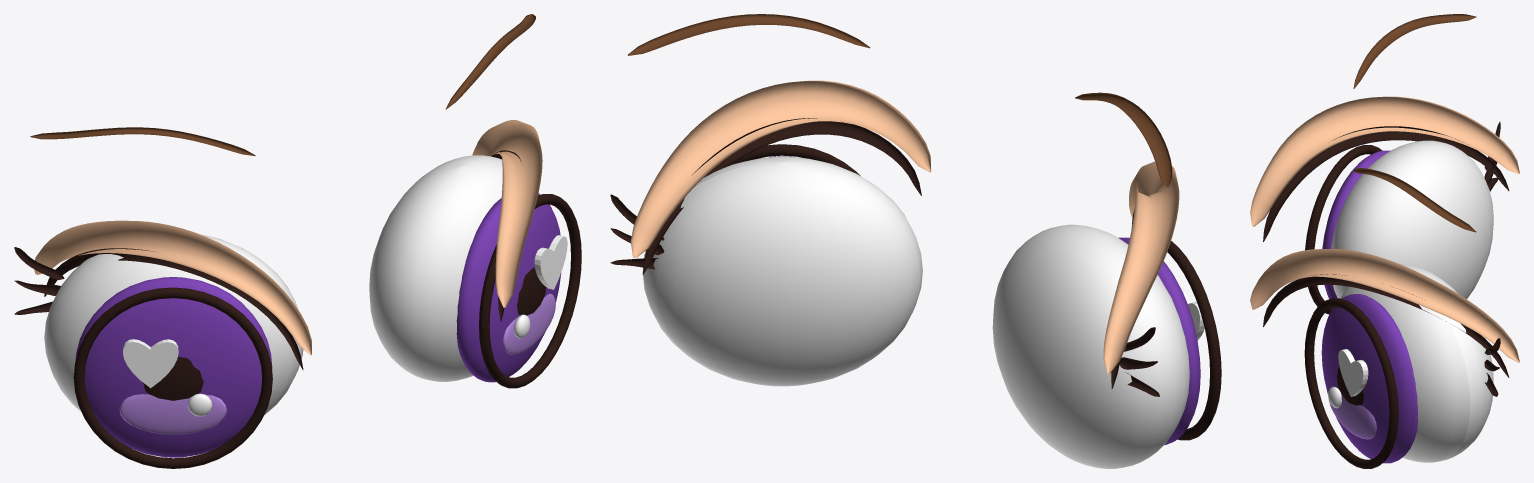
The model's file is eyes-sleepy.glb.
The picture shows the model from 3 angles, left to right: view 1: azimuth 30°, elevation 25°; view 2: azimuth 150°, elevation 25°; view 3: azimuth 270°, elevation 25°; orthographic projection. The views are drawn at different scales.
Parts seen in each view (by area): view 1: eyeballR, iris, eyeball, lidfold, irisR, lidfoldR, irisrim, irisrimR, irislight, brows, lid, shine (+4 smaller); view 2: eyeballR, eyeball, lidfoldR, lidfold, brows, lidR, irisrim, iris, irisrimR; view 3: eyeball, eyeballR, lidfold, irisR, lidfoldR, irisrimR, lid, brows, lidR, irisrim, iris, irislightR (+2 smaller).
Part boxes in pixels (<box>): eyeballR: <box>369,155,539,381</box>; iris: <box>75,277,272,457</box>; eyeball: <box>44,234,303,415</box>; lidfold: <box>34,220,311,355</box>; irisR: <box>456,193,561,382</box>; lidfoldR: <box>472,120,542,307</box>; irisrim: <box>73,287,272,468</box>; irisrimR: <box>479,194,581,388</box>; irislight: <box>119,394,226,434</box>; brows: <box>30,14,535,155</box>; lid: <box>44,248,303,369</box>; shine: <box>123,339,178,388</box>; eyeballR: <box>642,156,922,386</box>; eyeball: <box>992,224,1189,468</box>; lidfoldR: <box>630,80,931,258</box>; lidfold: <box>1103,161,1179,373</box>; brows: <box>628,14,1172,187</box>; lidR: <box>642,118,921,274</box>; irisrim: <box>1167,241,1221,440</box>; iris: <box>1119,237,1200,444</box>; irisrimR: <box>730,144,860,175</box>; eyeball: <box>1331,140,1493,298</box>; eyeballR: <box>1341,263,1493,462</box>; lidfold: <box>1250,96,1519,226</box>; irisR: <box>1321,294,1417,463</box>; lidfoldR: <box>1250,249,1519,362</box>; irisrimR: <box>1304,298,1398,468</box>; lid: <box>1263,126,1509,241</box>; brows: <box>1353,14,1476,232</box>; lidR: <box>1263,274,1509,377</box>; irisrim: <box>1305,145,1381,314</box>; iris: <box>1322,150,1390,298</box>; irislightR: <box>1329,386,1376,439</box>.
Size of the model in its own units: 0.6564 by 0.4002 by 0.3417.
